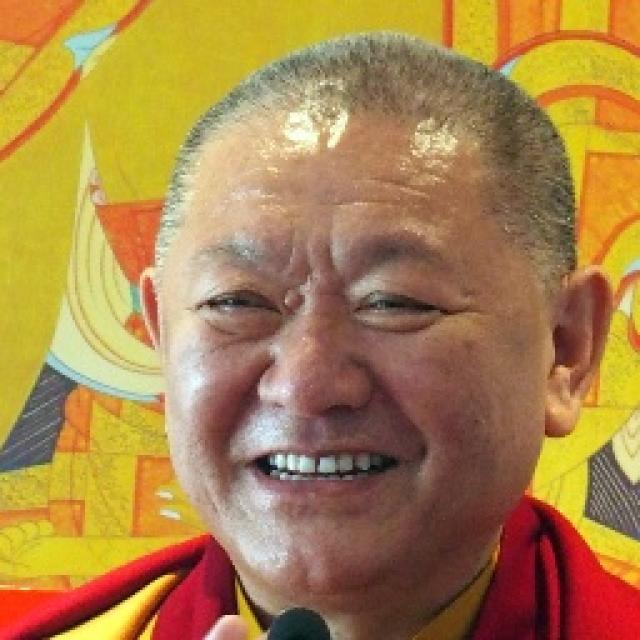earlobe: (542, 268, 614, 440)
